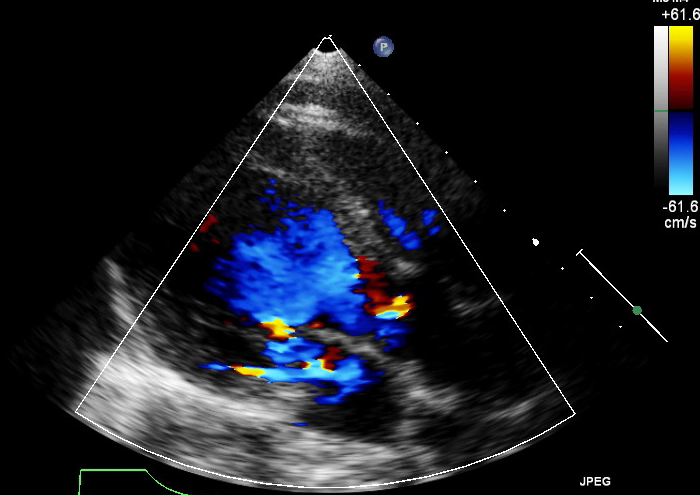AR: (376, 295, 411, 320)
